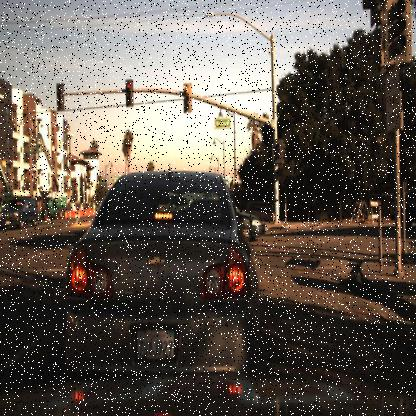car: (52, 165, 263, 415), (228, 198, 272, 249), (0, 194, 36, 234)
trafficLight: (380, 0, 415, 76), (182, 80, 192, 115), (54, 82, 65, 110)
trafficLight-Red: (272, 133, 284, 167), (123, 75, 134, 107)
